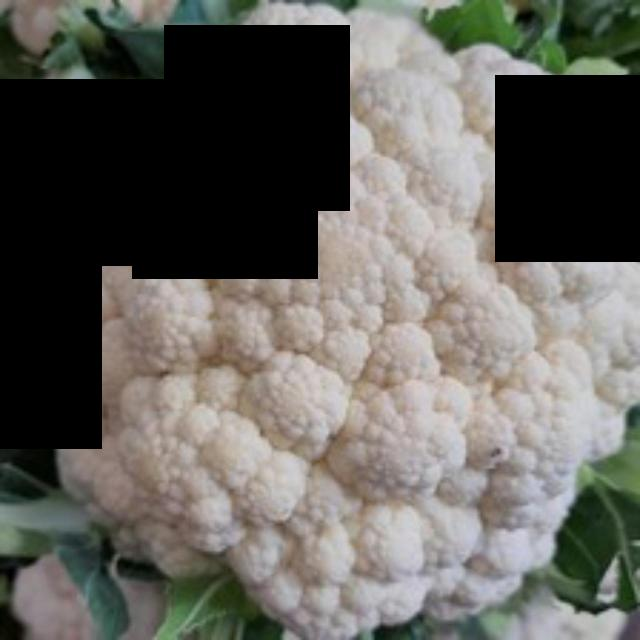cauliflower: (14, 3, 637, 637)
